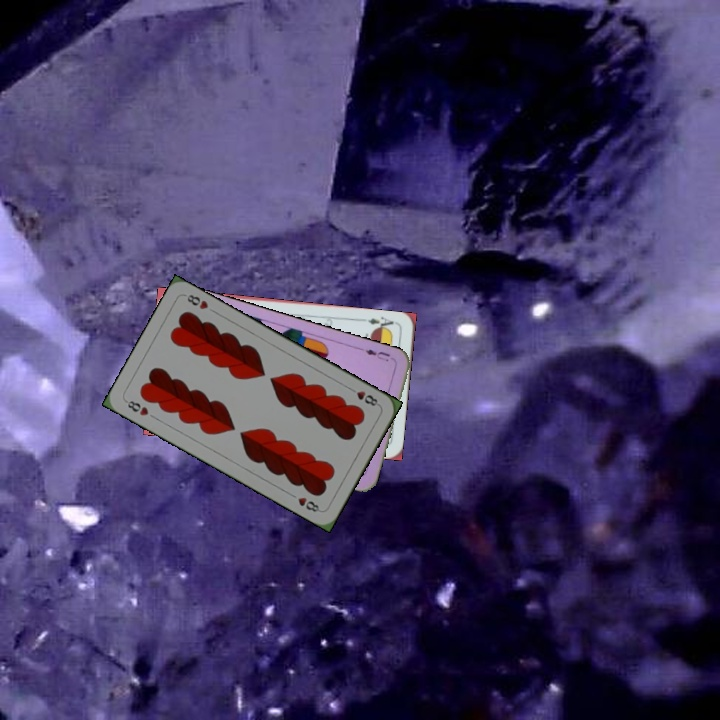EA: (359, 313, 399, 334)
EU: (361, 345, 397, 364)
H8: (345, 383, 382, 409), (121, 396, 151, 418)
